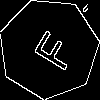F: (24, 23, 79, 73)
